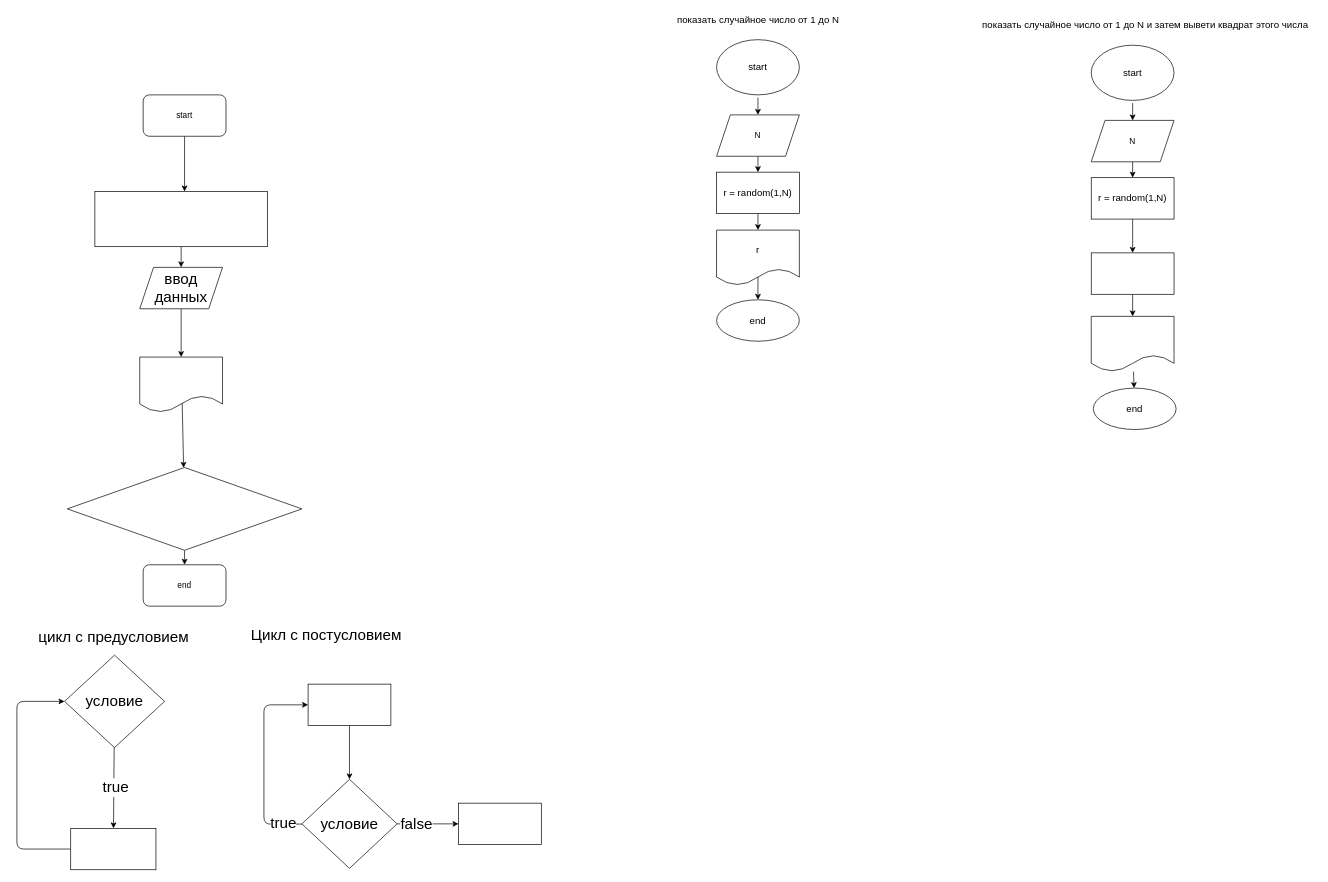
Image size: 1328x882. Some labels were removed from this diagram. The shapes that lost their labels are listed below. From the top down, each one's centre as x and y in pixels, then its label:
the point at 180,219: count = 0 res = 1 * Sqrt(2)
the point at 1132,273: squad = r*r
the point at 1132,344: squad
the point at 181,384: вывод данных
